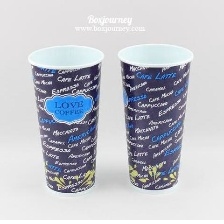paper_cup: (21, 41, 107, 201), (113, 39, 197, 196)
